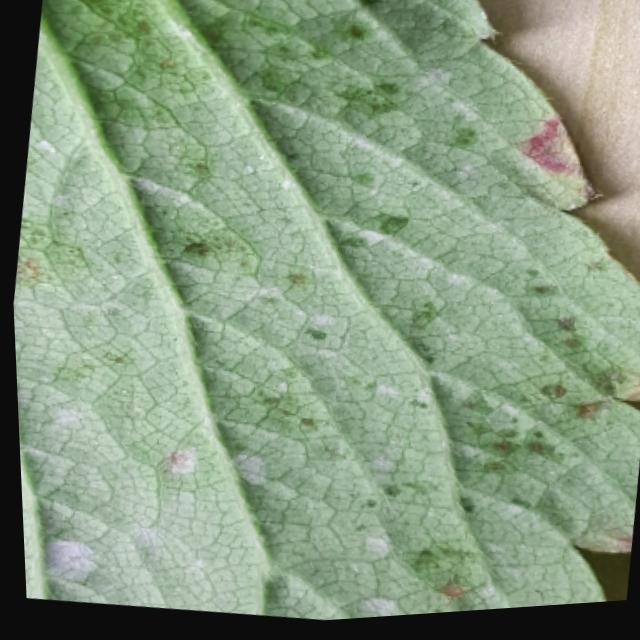Angular Leafspot: (10, 0, 640, 623)
